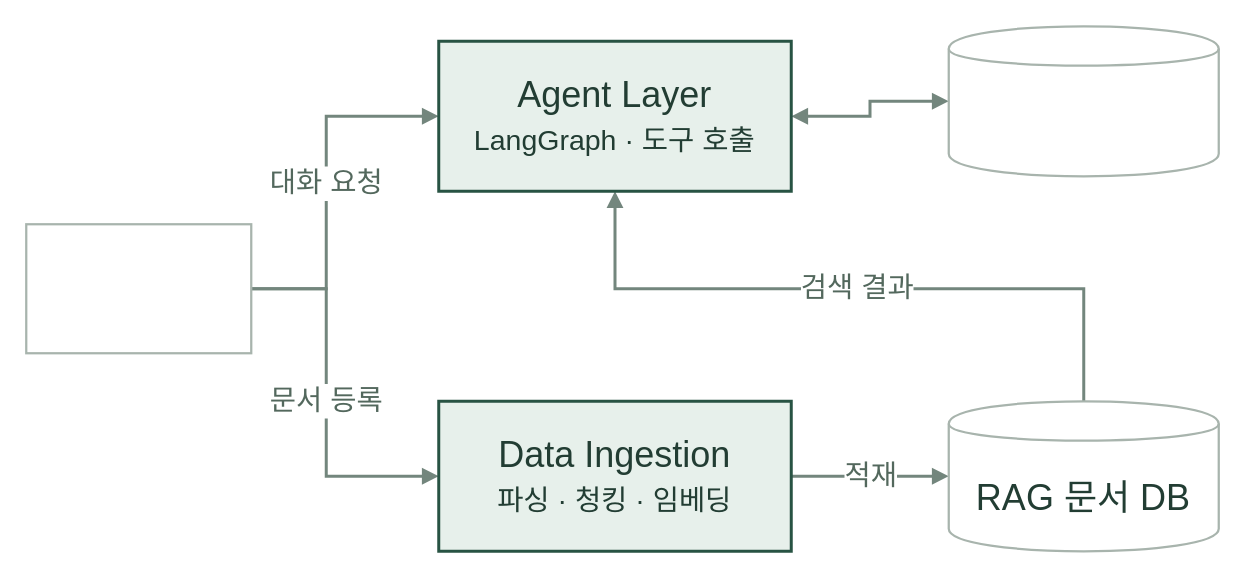
The diagram is 1247 pixels wide and 579 high, and some of its shapes have lost their labels. Each missing label, with the box of its shape:
대화 메모리: (947, 24, 1219, 177)
서비스: (24, 222, 252, 354)
